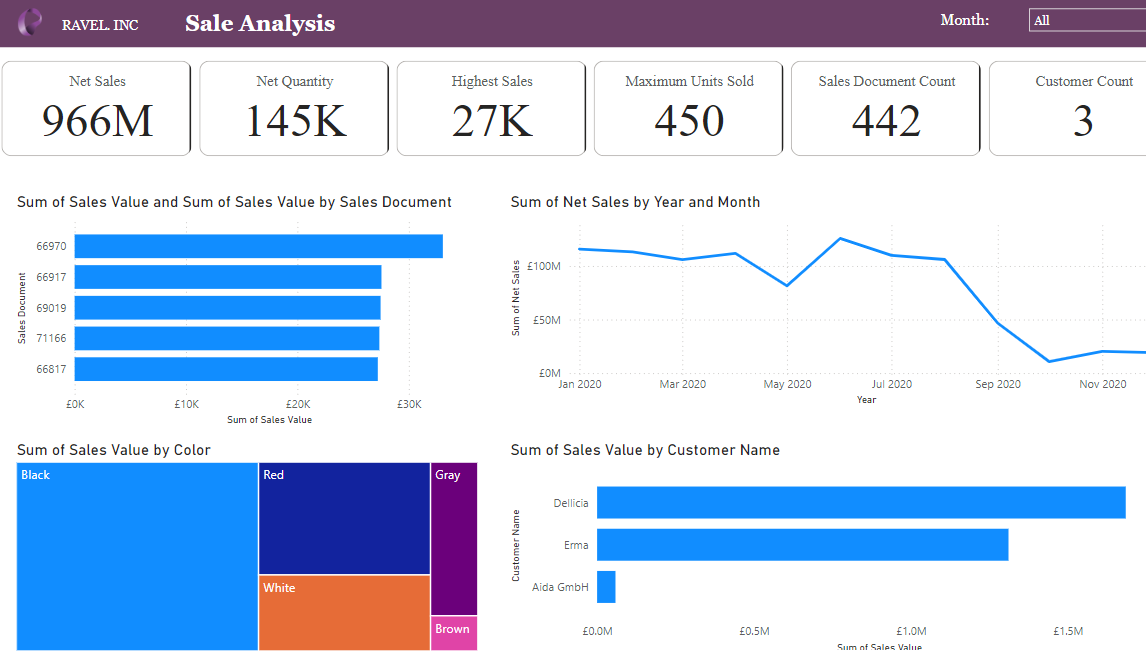

Layout of this report page (visuals, bound fields, positions):
{"tool":"powerbi","page":{"name":"Sale Analysis","canvas":[1280,720],"ordinal":0},"visuals":[{"type":"shape","box":[0,11.2,1280,51],"z":0},{"type":"image","box":[16.2,14.9,38.6,41.1],"z":1000},{"type":"textbox","box":[64.7,24.9,120.7,31.1],"z":2000},{"type":"textbox","box":[197.8,17.4,186.6,44.8],"z":3000},{"type":"slicer","fields":{"Values":["TableSales.Document Date.Variation.Date Hierarchy.Month"]},"box":[1103.3,9.6,177,75.5],"z":4000},{"type":"textbox","box":[1013.8,18.7,89.6,28.6],"z":5000},{"type":"cardVisual","fields":{"Data":["TableSales.Total Net Sales","TableSales.Net Quantity","TableSales.Max Sales","TableSales.Max Quantity","TableSales.Distint Sales Document","TableSales.Customer Count"]},"box":[0,72.1,1280,113.2],"z":6000},{"type":"clusteredBarChart","fields":{"Category":["TableSales.Sales Document"],"Y":["Sum(TableSales.Sales Value)","Sum(TableSales.Sales Value)"]},"box":[15.6,218.3,507.6,256.6],"z":7000},{"type":"lineChart","fields":{"Category":["TableSales.Document Date.Variation.Date Hierarchy.Year","TableSales.Document Date.Variation.Date Hierarchy.Month"],"Y":["Sum(TableSales.Net Sales)"]},"box":[549.7,217.9,730.6,235],"z":7001},{"type":"clusteredBarChart","fields":{"Y":["Sum(TableSales.Sales Value)"],"Category":["MasterCustomer.Customer Name"]},"box":[549.7,485.6,730.6,235],"z":7002},{"type":"treemap","fields":{"Group":["MasterArticle.Color"],"Values":["Sum(TableSales.Sales Value)"]},"box":[16,486,508,234],"z":7003}]}

Visuals, with their boxes in screenshot pixels (x1, y1, x2, y2), scaled from the page's 1280x720 canvas onto the 1146x652 screenshot:
shape: crop(0, 10, 1145, 56)
image: crop(15, 13, 49, 51)
textbox: crop(58, 23, 166, 51)
textbox: crop(177, 16, 344, 56)
slicer - TableSales.Document Date.Variation.Date Hierarchy.Month: crop(988, 9, 1145, 77)
textbox: crop(908, 17, 988, 43)
cardVisual - TableSales.Total Net Sales x TableSales.Net Quantity: crop(0, 65, 1145, 168)
clusteredBarChart - TableSales.Sales Document x Sum(TableSales.Sales Value): crop(14, 198, 468, 430)
lineChart - TableSales.Document Date.Variation.Date Hierarchy.Year x TableSales.Document Date.Variation.Date Hierarchy.Month: crop(492, 197, 1145, 410)
clusteredBarChart - Sum(TableSales.Sales Value) x MasterCustomer.Customer Name: crop(492, 440, 1145, 651)
treemap - MasterArticle.Color x Sum(TableSales.Sales Value): crop(14, 440, 469, 651)
